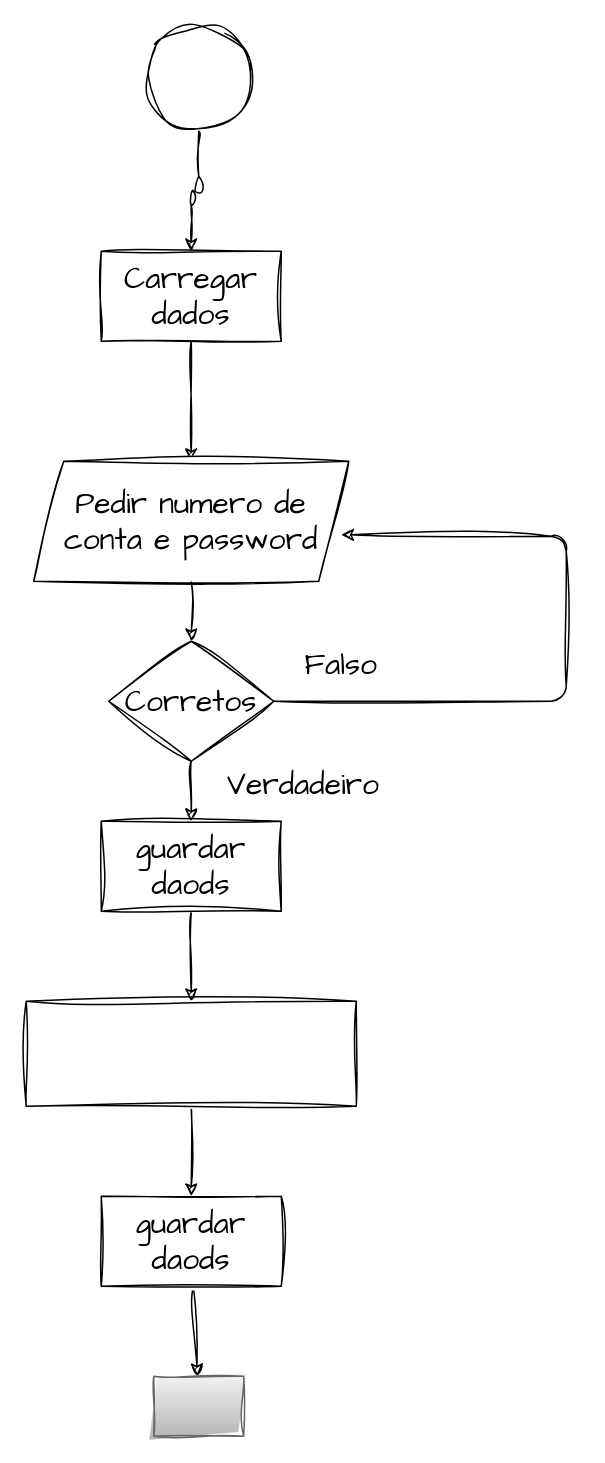
Some shapes in this 605 by 1463 pixel diagram are drawn without their labels. Here are the shapes that lost their labels. From the top down, the box of each, then its label:
(145, 25, 251, 131): Inicio
(25, 1000, 356, 1106): Definir Usuario_Atual = numero_de_conta
(152, 1375, 244, 1436): Menu
